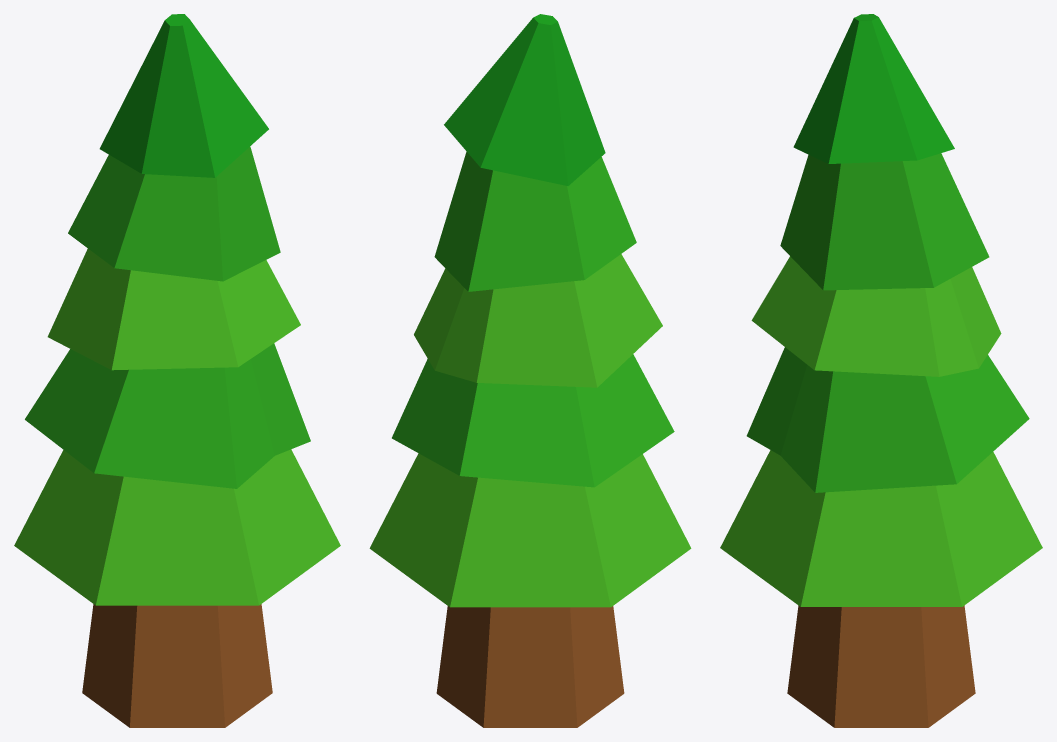
The model's file is Tree 3.1.fbx.
3 renders of one model, left to right at view 1: azimuth 30°, elevation 25°; view 2: azimuth 150°, elevation 25°; view 3: azimuth 270°, elevation 25°, orthographic.
Parts seen in each view (by area): view 1: Cylinder.001; view 2: Cylinder.001; view 3: Cylinder.001.
Boxes of the visible parts, x1,y1,x2,y2 form: Cylinder.001: (14,14,340,727); Cylinder.001: (369,14,691,727); Cylinder.001: (720,14,1042,727).
Size of the model in its own units: 112 by 298 by 129.
